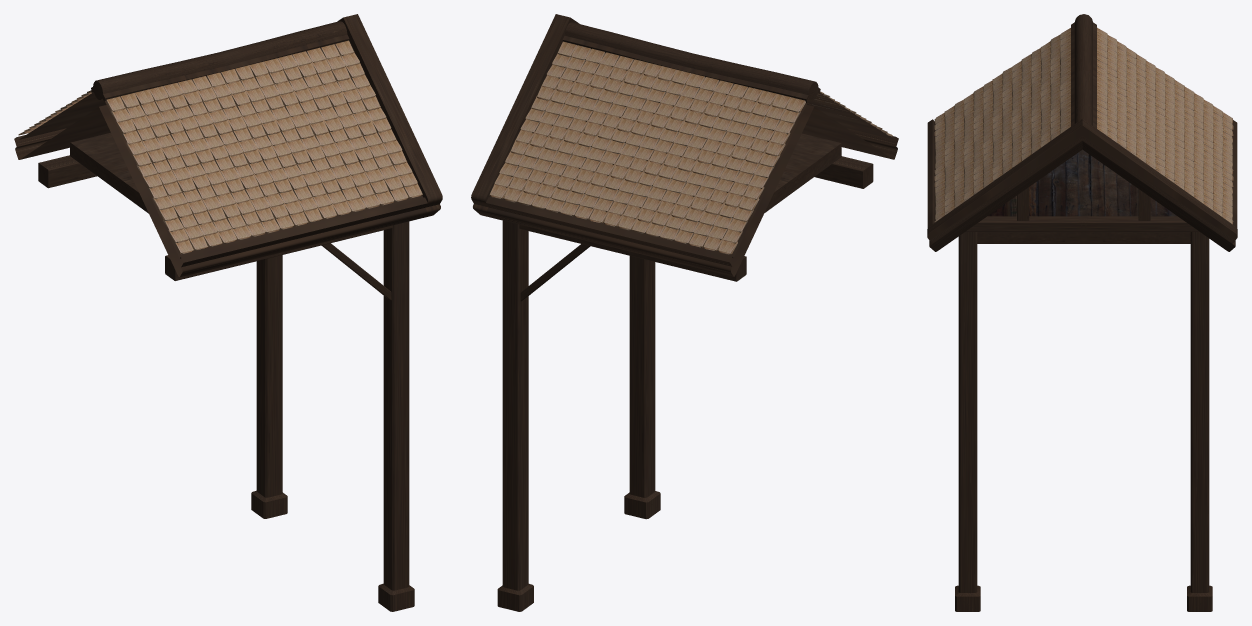
Rendered from OutdoorArchitecture_SingleObjects_Porch_BShortt.fbx.
3 renders of one model, left to right at view 1: azimuth 30°, elevation 25°; view 2: azimuth 150°, elevation 25°; view 3: azimuth 270°, elevation 25°, orthographic. The views are drawn at different scales.
Visible parts, largest first — view 1: OutdoorArchitecture_SignleObjects_Porch_BShortt; view 2: OutdoorArchitecture_SignleObjects_Porch_BShortt; view 3: OutdoorArchitecture_SignleObjects_Porch_BShortt.
Part boxes in pixels (<box>): OutdoorArchitecture_SignleObjects_Porch_BShortt: <box>14,14,442,611</box>; OutdoorArchitecture_SignleObjects_Porch_BShortt: <box>471,14,898,611</box>; OutdoorArchitecture_SignleObjects_Porch_BShortt: <box>927,14,1237,611</box>.
Size of the model in its own units: 177 by 351 by 201.
